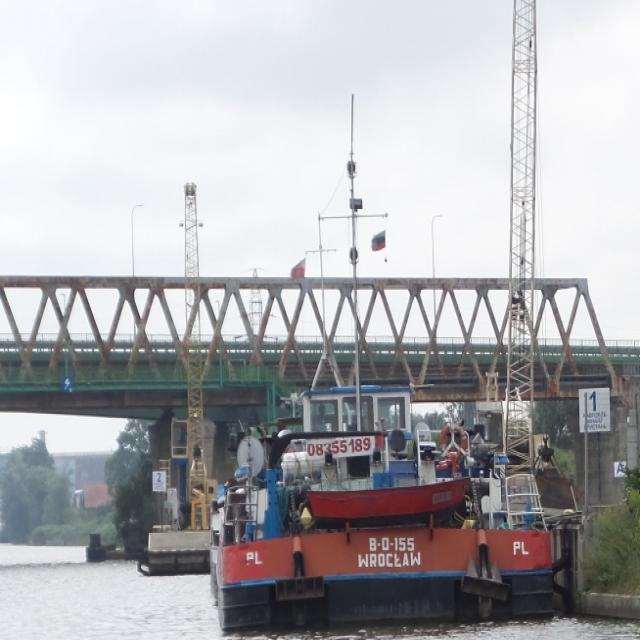tugboat: (205, 378, 578, 640)
